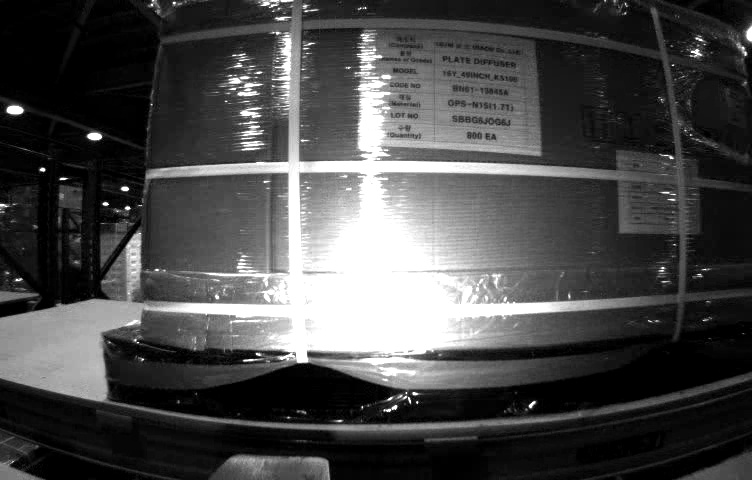True Barcode: (716, 86, 746, 127)
